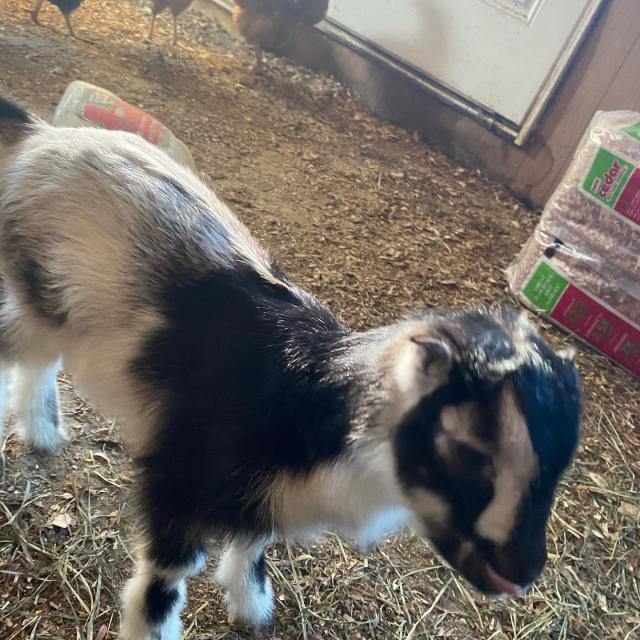goat: (0, 97, 564, 632)
